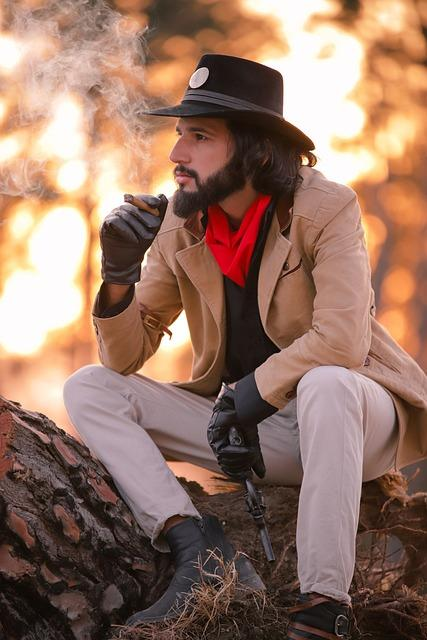smoker: (40, 0, 331, 320)
